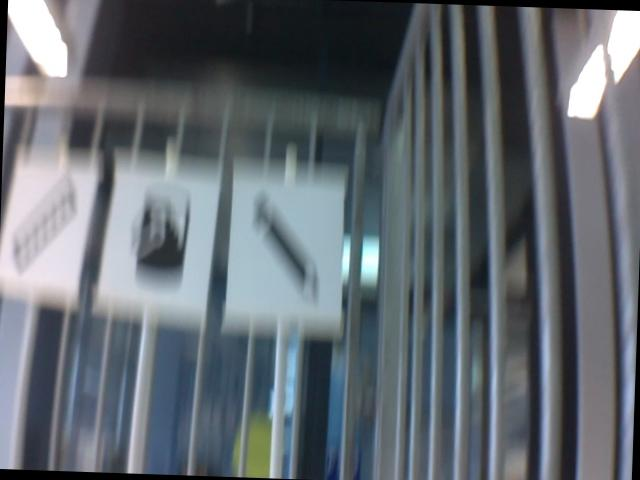bucket: (117, 181, 194, 286)
pencil: (242, 192, 330, 304)
ruler: (7, 174, 79, 279)
